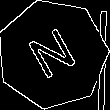N_SE: (23, 23, 83, 86)
